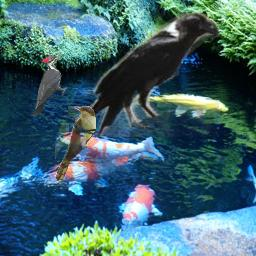Crow: (68, 8, 219, 137)
Cuckoo: (55, 106, 96, 182)
Woodpecker: (31, 53, 67, 116)
